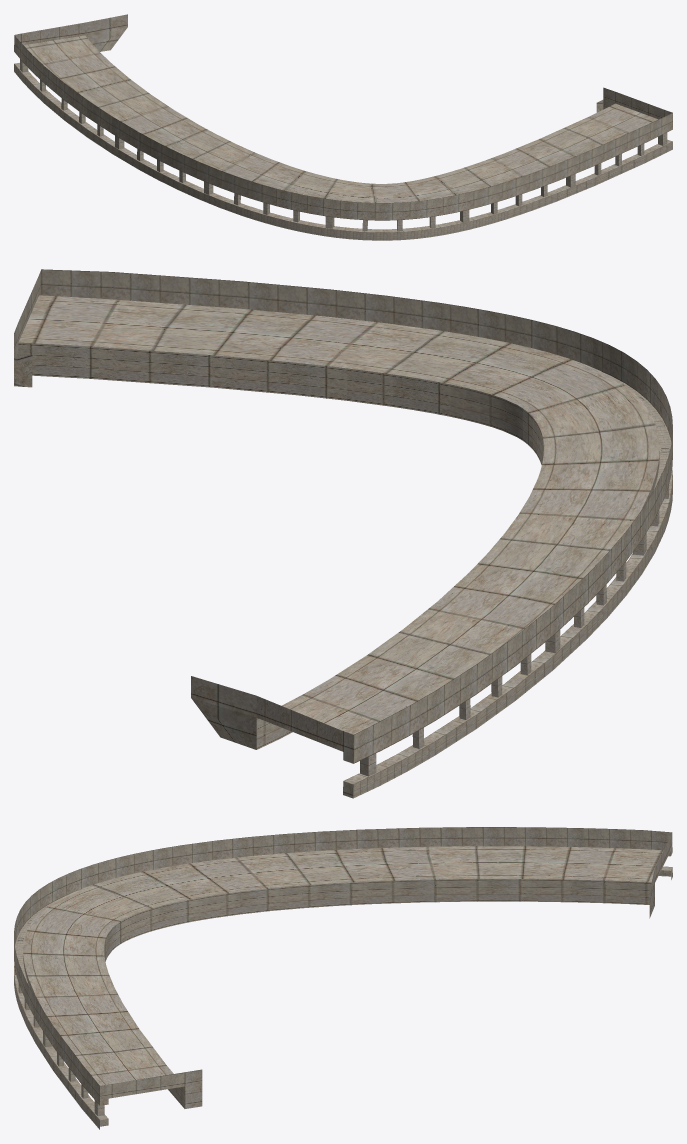
Rendered from suidao.fbx.
3 renders of one model, top to bottom at view 1: azimuth 30°, elevation 25°; view 2: azimuth 150°, elevation 25°; view 3: azimuth 270°, elevation 25°, orthographic. The views are drawn at different scales.
Parts seen in each view (by area): view 1: pCube27; view 2: pCube27; view 3: pCube27.
Boxes of the visible parts, x1,y1,x2,y2 form: pCube27: (14,14,672,240); pCube27: (14,269,672,798); pCube27: (14,827,672,1129).
Bounding box in the file's own units: 237 × 23.49 × 261.
